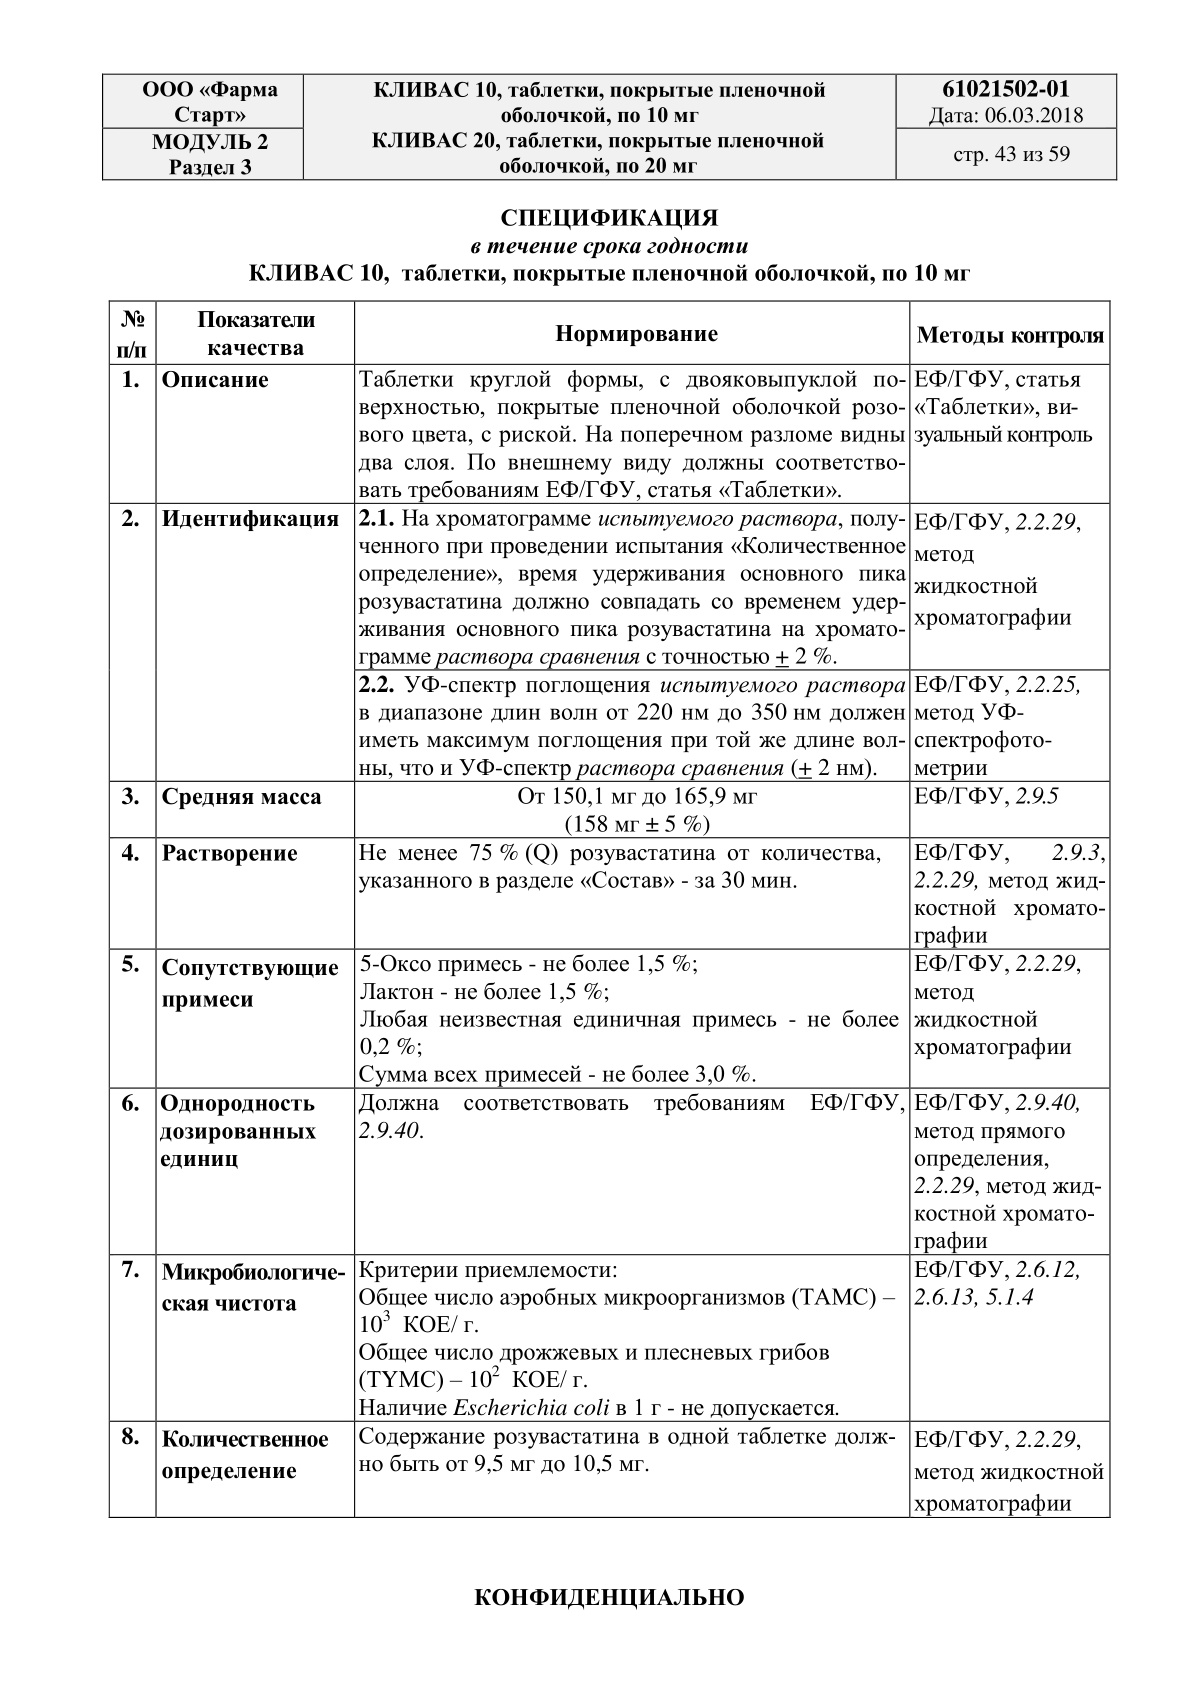merged_cells: (107, 299, 1112, 1517), (101, 73, 1118, 180)
